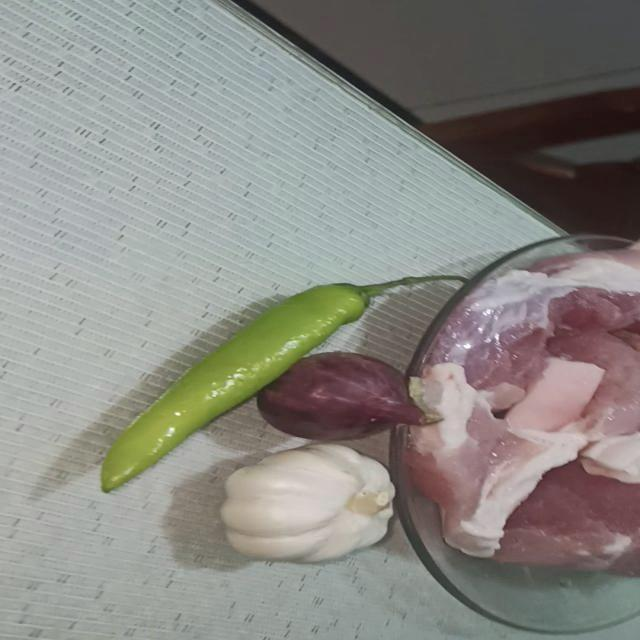chili_pepper: (86, 250, 403, 495)
garlic: (204, 447, 409, 572)
onion: (249, 360, 403, 433)
pork: (415, 422, 640, 588), (418, 288, 640, 435), (495, 242, 640, 330)
